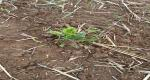zhavel: (42, 25, 101, 45)
